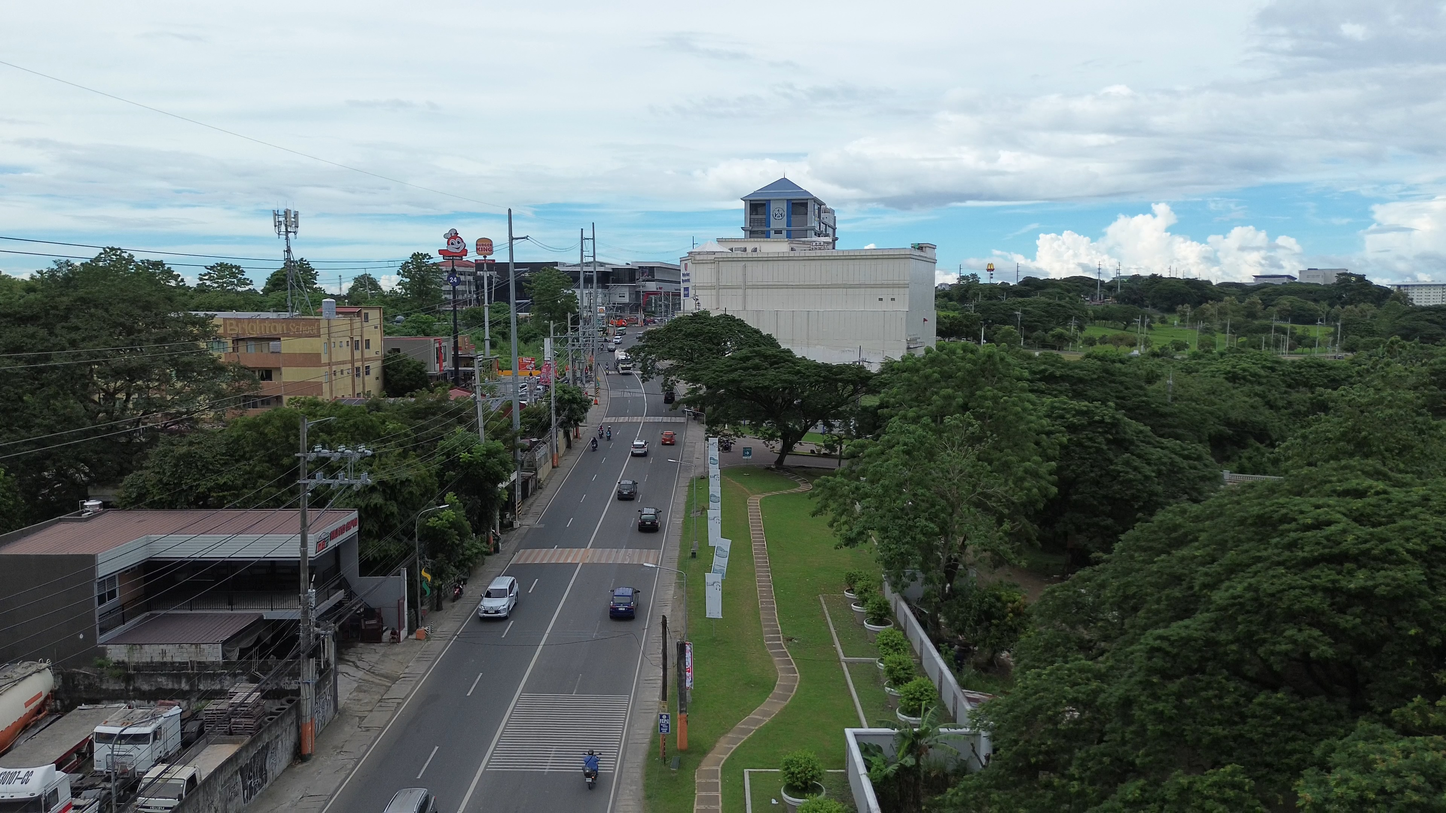car: (477, 577, 519, 618), (609, 587, 639, 618), (638, 507, 660, 531), (616, 480, 638, 500), (630, 439, 648, 456), (660, 431, 675, 445)
motorcycle: (452, 582, 464, 602), (590, 439, 598, 451)
truck: (136, 736, 246, 813)
vehicle: (93, 705, 182, 776), (0, 661, 54, 752), (0, 765, 72, 813), (135, 764, 201, 813), (383, 788, 437, 813), (583, 751, 599, 790), (662, 387, 675, 403)
